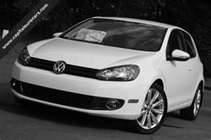car: (9, 16, 204, 136)
